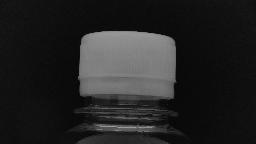Loose Cap: (68, 72, 184, 118)
